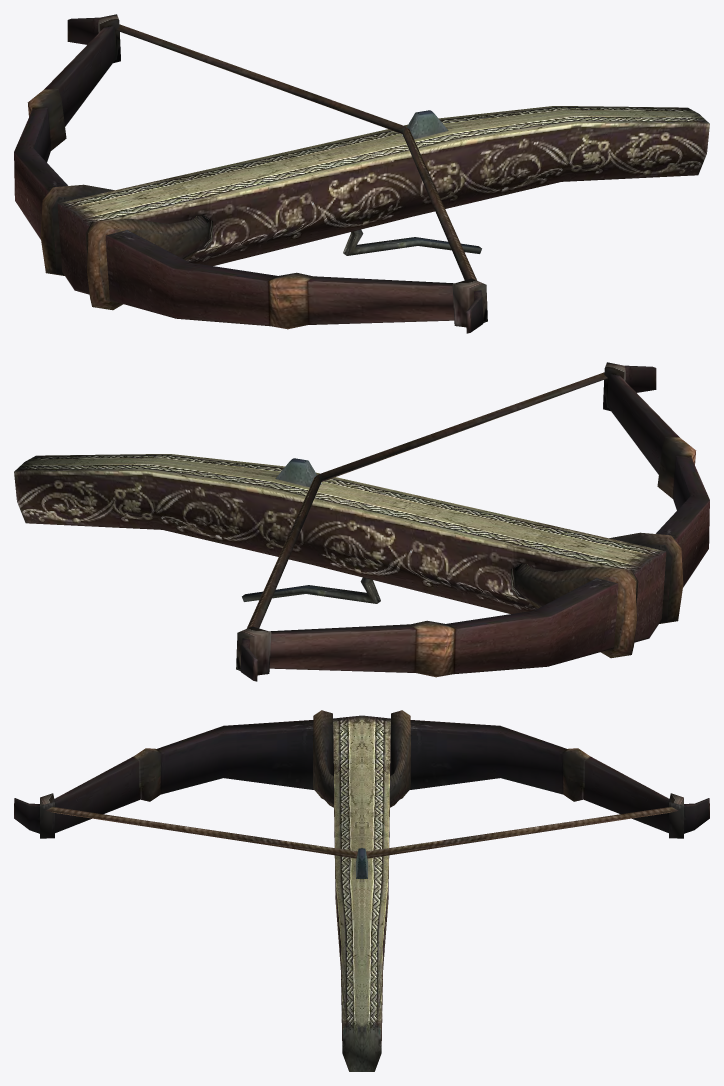
The model's file is KM_ITRW_CROSSBOW_04.glb.
The picture shows the model from 3 angles, top to bottom: view 1: azimuth 30°, elevation 25°; view 2: azimuth 150°, elevation 25°; view 3: azimuth 270°, elevation 25°; orthographic projection. The views are drawn at different scales.
Parts seen in each view (by area): view 1: KM_ITRW_CROSSBOW_04; view 2: KM_ITRW_CROSSBOW_04; view 3: KM_ITRW_CROSSBOW_04.
Part boxes in pixels (left/top/right/bottom): KM_ITRW_CROSSBOW_04: left=14, top=14, right=709, bottom=333; KM_ITRW_CROSSBOW_04: left=14, top=362, right=709, bottom=681; KM_ITRW_CROSSBOW_04: left=14, top=710, right=709, bottom=1071.
Bounding box in the file's own units: 0.82 × 0.1904 × 0.8926.
1 material, 1 textured.
